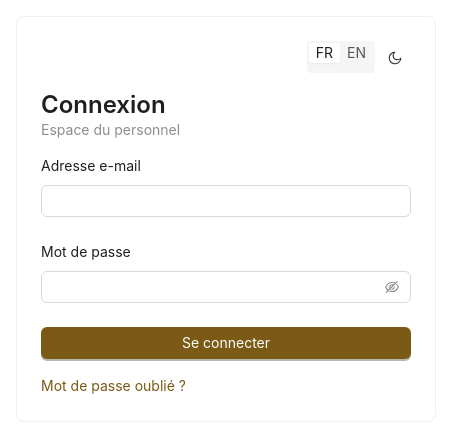
Test case: client shell › validates the login form without calling an API
This screenshot has width=453, height=439.
Type "not-an-email" into the field labelled "Adresse e-mail" at (226, 201), box [41,185,411,217]
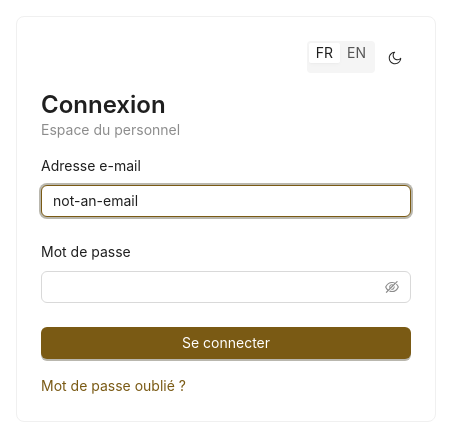
Click the button "Se connecter" at (226, 343), box [41,327,411,359]
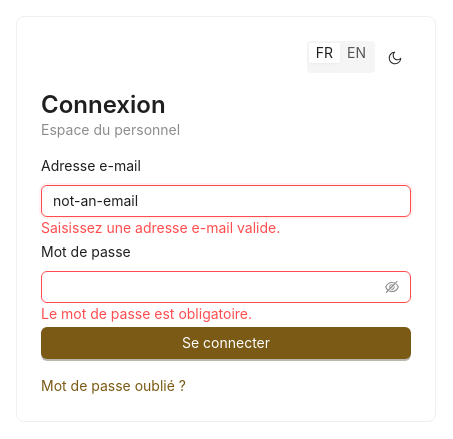
expect the text "Saisissez une adresse e-mail valide." is shown: met, box [41,219,280,236]
expect the text "Le mot de passe est obligatoire." is shown: met, box [41,305,252,322]
